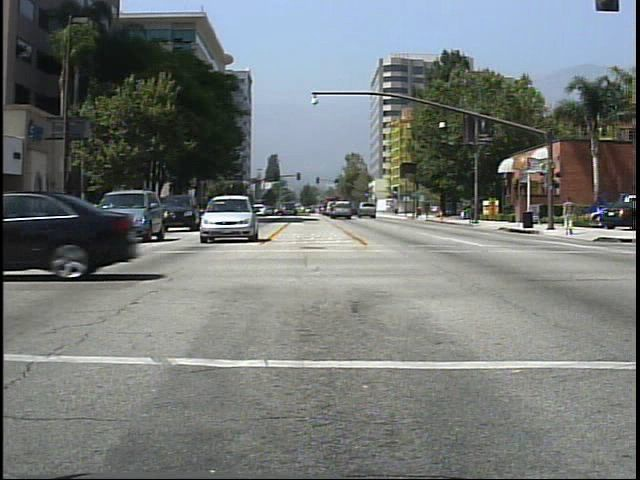person: (562, 194, 579, 239)
